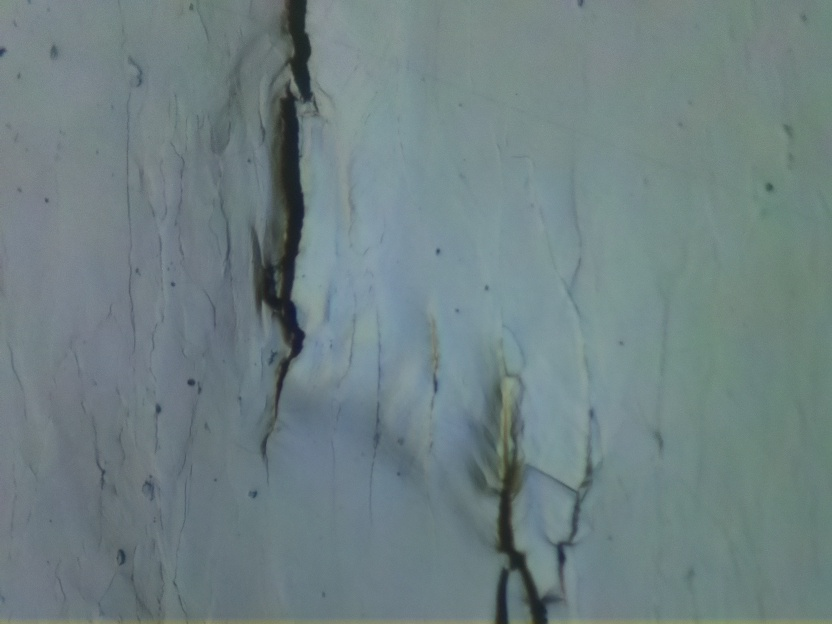crack: (254, 0, 313, 475), (495, 391, 595, 624)
